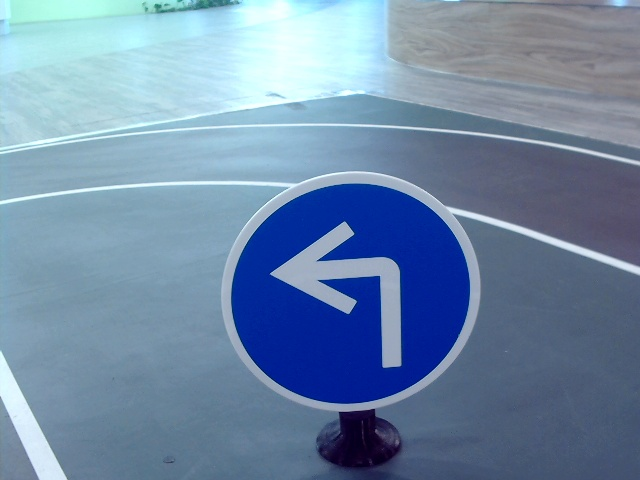turn_left: (267, 217, 418, 374)
